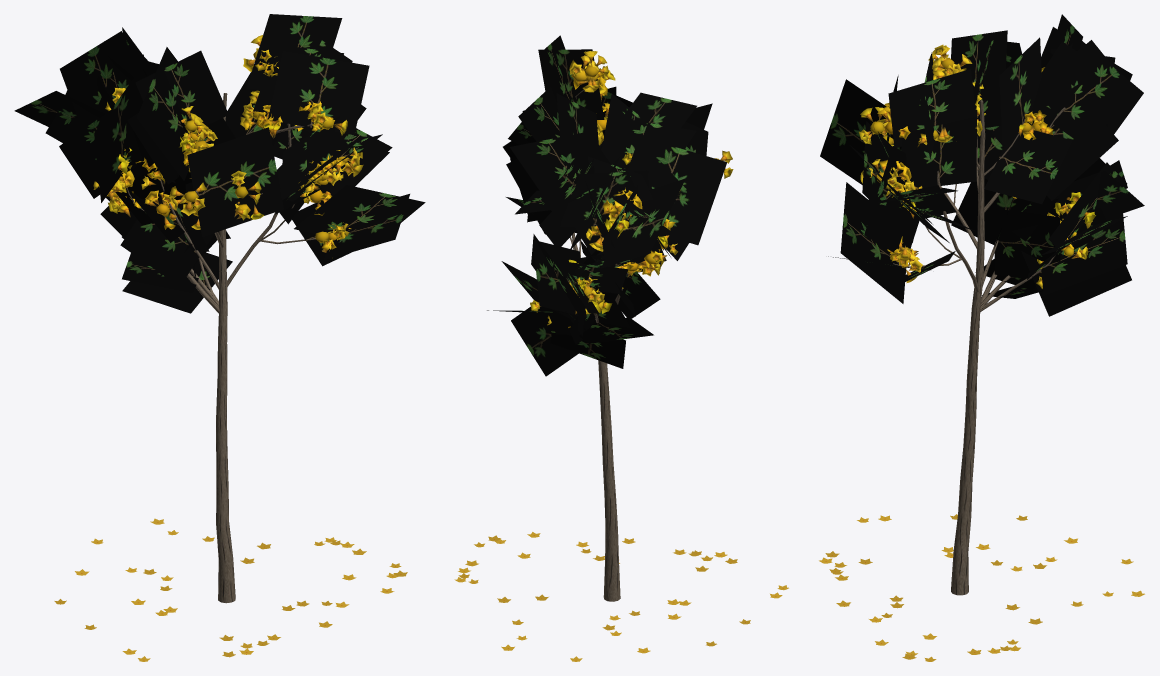
Rendered from ipe_amarelo_5anos.glb.
3 views of the same model, side by side, from view 1: azimuth 30°, elevation 25°; view 2: azimuth 150°, elevation 25°; view 3: azimuth 270°, elevation 25° (orthographic). The views are drawn at different scales.
Visible parts, largest first — view 1: Ipe_amarelo; view 2: Ipe_amarelo; view 3: Ipe_amarelo.
Part boxes in pixels (bbox=[...]): Ipe_amarelo: bbox=[14, 14, 425, 661]; Ipe_amarelo: bbox=[454, 35, 788, 661]; Ipe_amarelo: bbox=[819, 14, 1144, 661].
Bounding box in the file's own units: 1.2 × 2.22 × 1.12.
5 materials, 5 textured.
